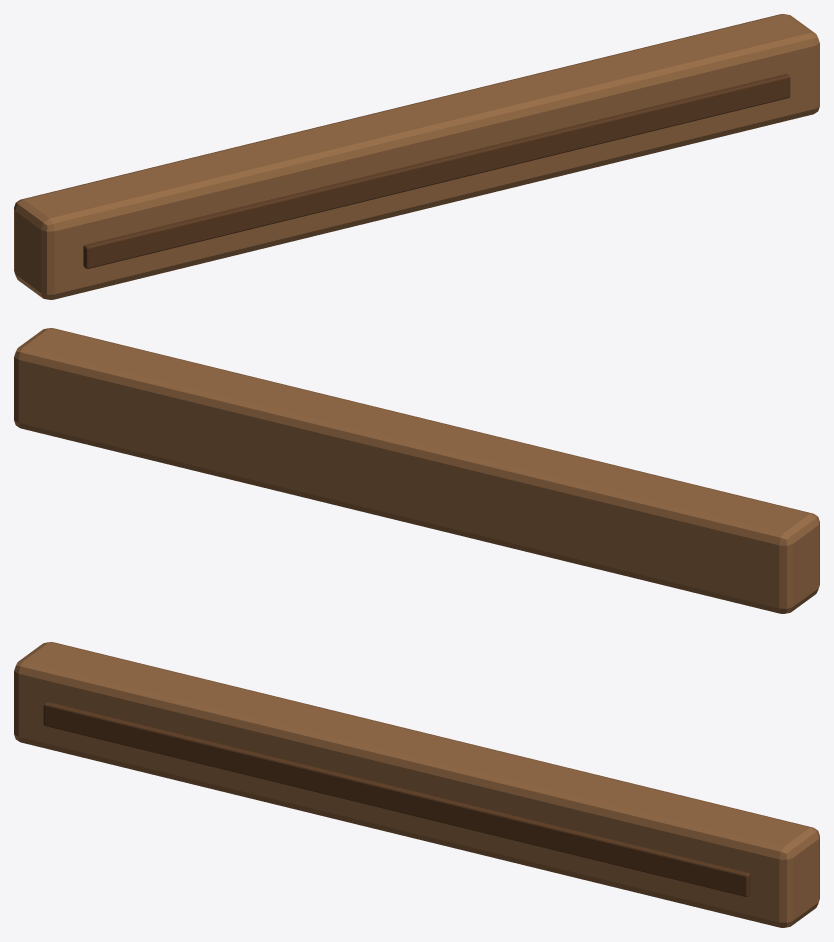
The model's file is beam_4x0p4.glb.
3 views of the same model, one above another, from view 1: azimuth 30°, elevation 25°; view 2: azimuth 150°, elevation 25°; view 3: azimuth 330°, elevation 25° (orthographic).
Parts seen in each view (by area): view 1: beam_body, beam_face_inlay; view 2: beam_body; view 3: beam_body, beam_face_inlay.
Part boxes in pixels (x1,y1,x2,y2): beam_body: [14, 14, 819, 299]; beam_face_inlay: [83, 74, 790, 268]; beam_body: [14, 328, 819, 613]; beam_body: [14, 642, 819, 927]; beam_face_inlay: [43, 702, 750, 896].
Bounding box in the file's own units: 4 × 0.4 × 0.3545.
